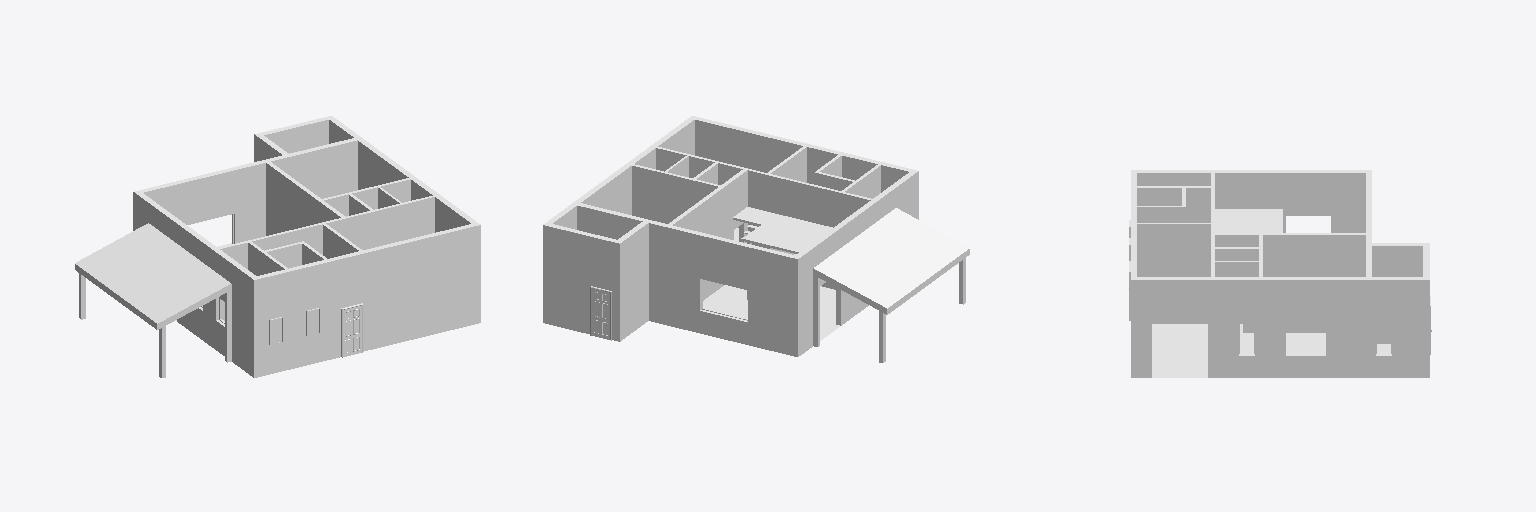
File: Villetta.obj
3 renders of one model, left to right at view 1: azimuth 30°, elevation 25°; view 2: azimuth 150°, elevation 25°; view 3: azimuth 270°, elevation 25°, orthographic.
Visible parts, largest first — view 1: 3D.3; view 2: 3D.3; view 3: 3D.3.
Boxes of the visible parts, box(x1,y1,x2,y2) form: 3D.3: box(75, 116, 480, 377); 3D.3: box(543, 116, 969, 362); 3D.3: box(1128, 170, 1431, 377).
Bounding box in the file's own units: 1380 × 430 × 1207.